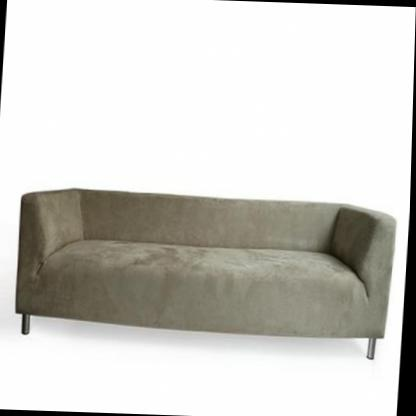Sofa: (13, 186, 399, 360)
